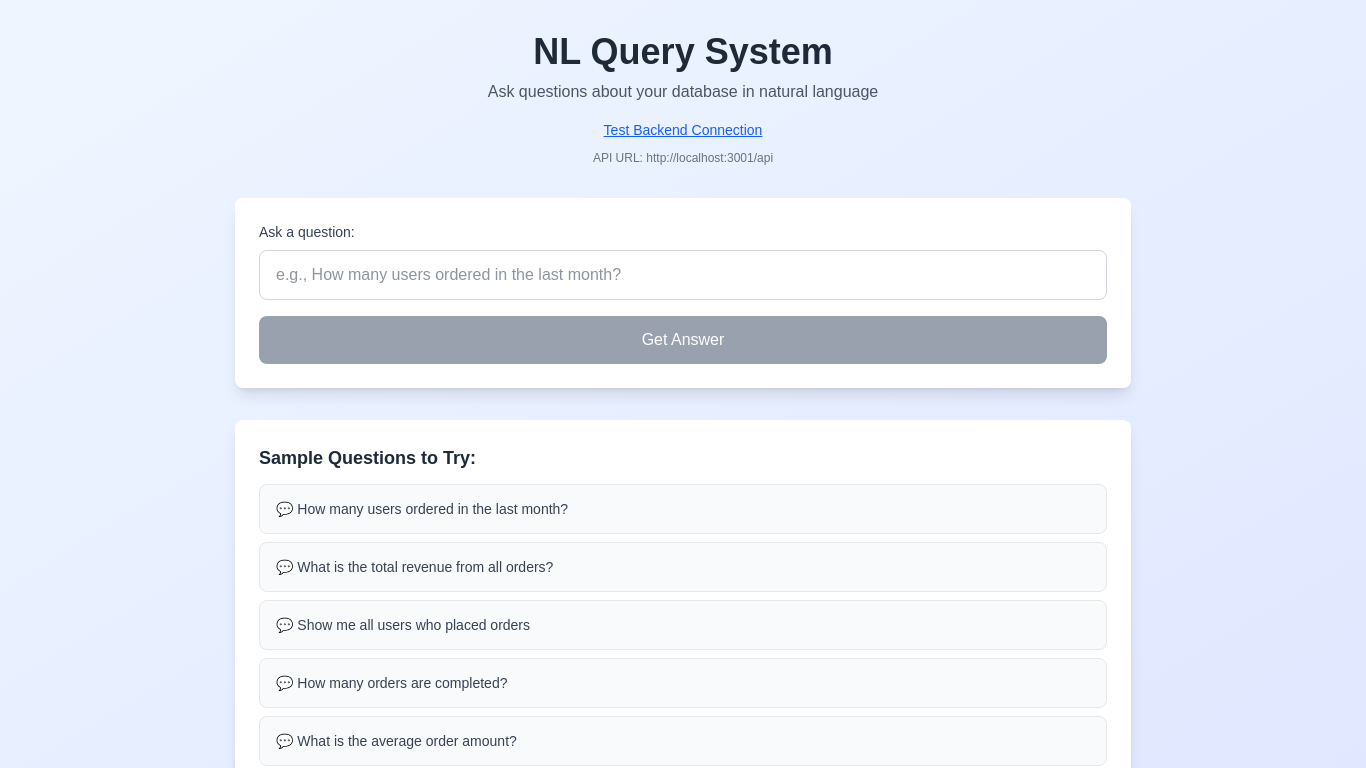
Test: Home Page › clicking sample question populates input field
Click the button "💬 How many users ordered in the last month?": (433, 509) x1=259 y1=484 x2=1107 y2=534
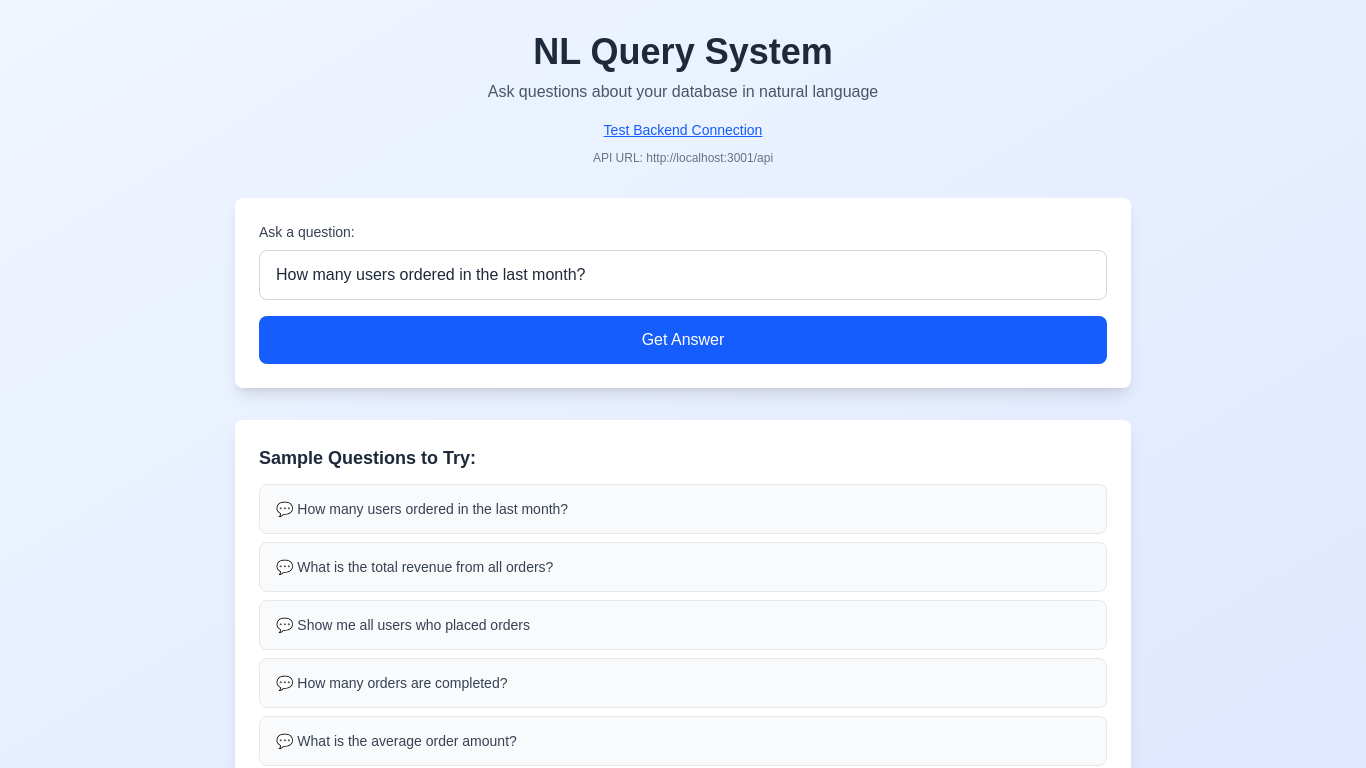
Expected: the field with placeholder "e.g., How many users ordered in the last month?" holds "How many users ordered in the last month?", x1=259 y1=250 x2=1107 y2=300
